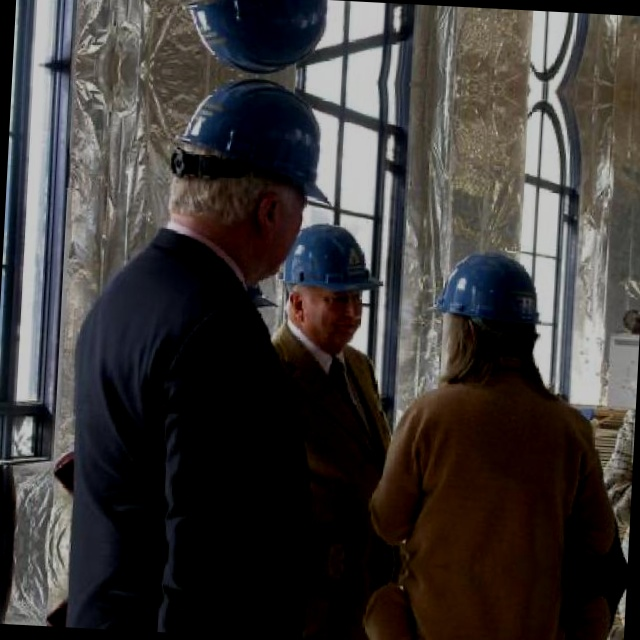helmet: (141, 78, 334, 297), (423, 220, 542, 377), (271, 203, 377, 357), (140, 0, 334, 80)
person: (49, 82, 328, 556), (383, 243, 626, 555), (242, 223, 408, 554), (383, 561, 628, 637), (242, 563, 409, 637)
